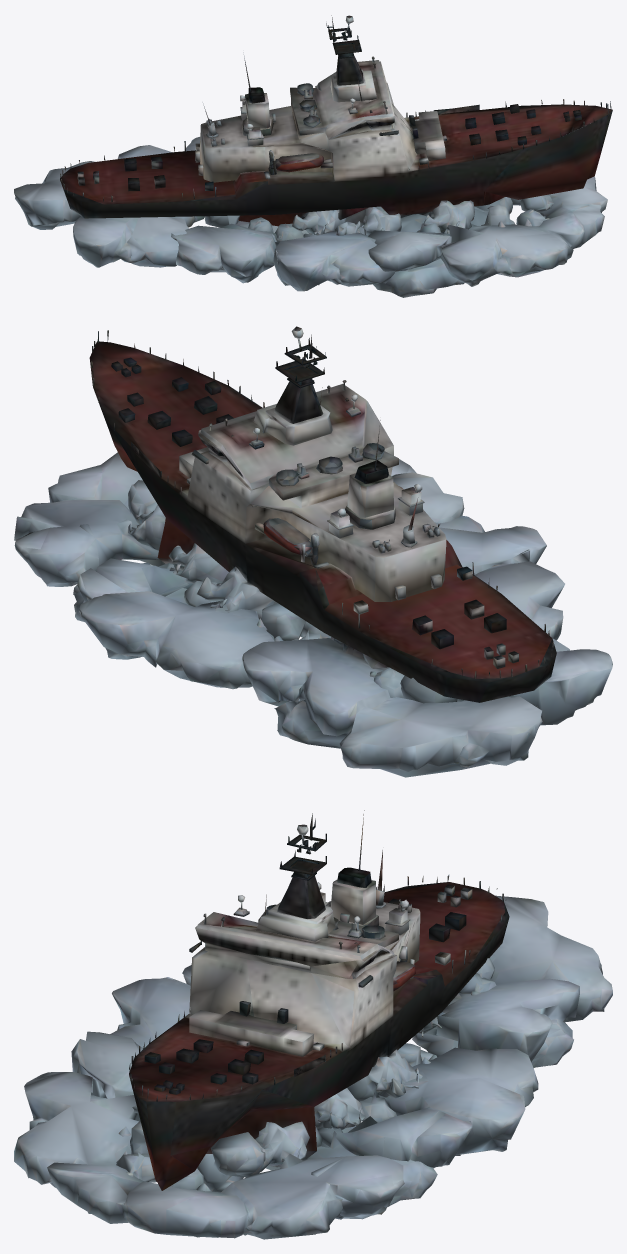
Rendered from icebreakerShip.glb.
The picture shows the model from 3 angles, top to bottom: view 1: azimuth 30°, elevation 25°; view 2: azimuth 150°, elevation 25°; view 3: azimuth 270°, elevation 25°; orthographic projection. The views are drawn at different scales.
Visible parts, largest first — view 1: tripo_node_4f912944-890f-43b6-8577-fed73b7836b7; view 2: tripo_node_4f912944-890f-43b6-8577-fed73b7836b7; view 3: tripo_node_4f912944-890f-43b6-8577-fed73b7836b7.
Boxes of the visible parts, x1,y1,x2,y2 form: tripo_node_4f912944-890f-43b6-8577-fed73b7836b7: (14, 15, 612, 297); tripo_node_4f912944-890f-43b6-8577-fed73b7836b7: (14, 326, 612, 777); tripo_node_4f912944-890f-43b6-8577-fed73b7836b7: (14, 810, 612, 1239).
Bounding box in the file's own units: 0.998 × 0.4551 × 0.8144.
1 material, 1 textured.
